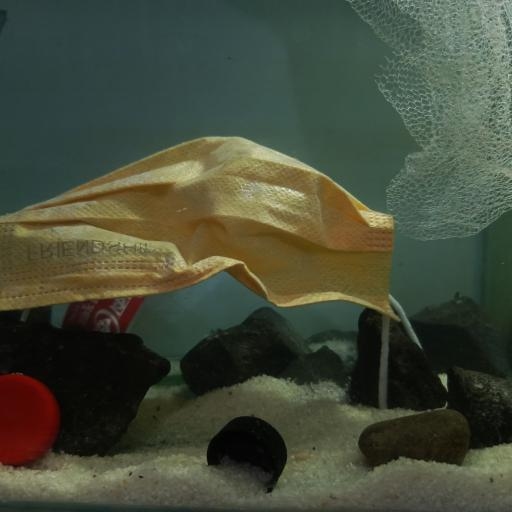bottle_cap: (204, 412, 290, 491), (0, 375, 62, 468)
mask: (0, 135, 403, 325)
net: (348, 2, 512, 242)
plastic_bottle: (4, 294, 228, 357)
